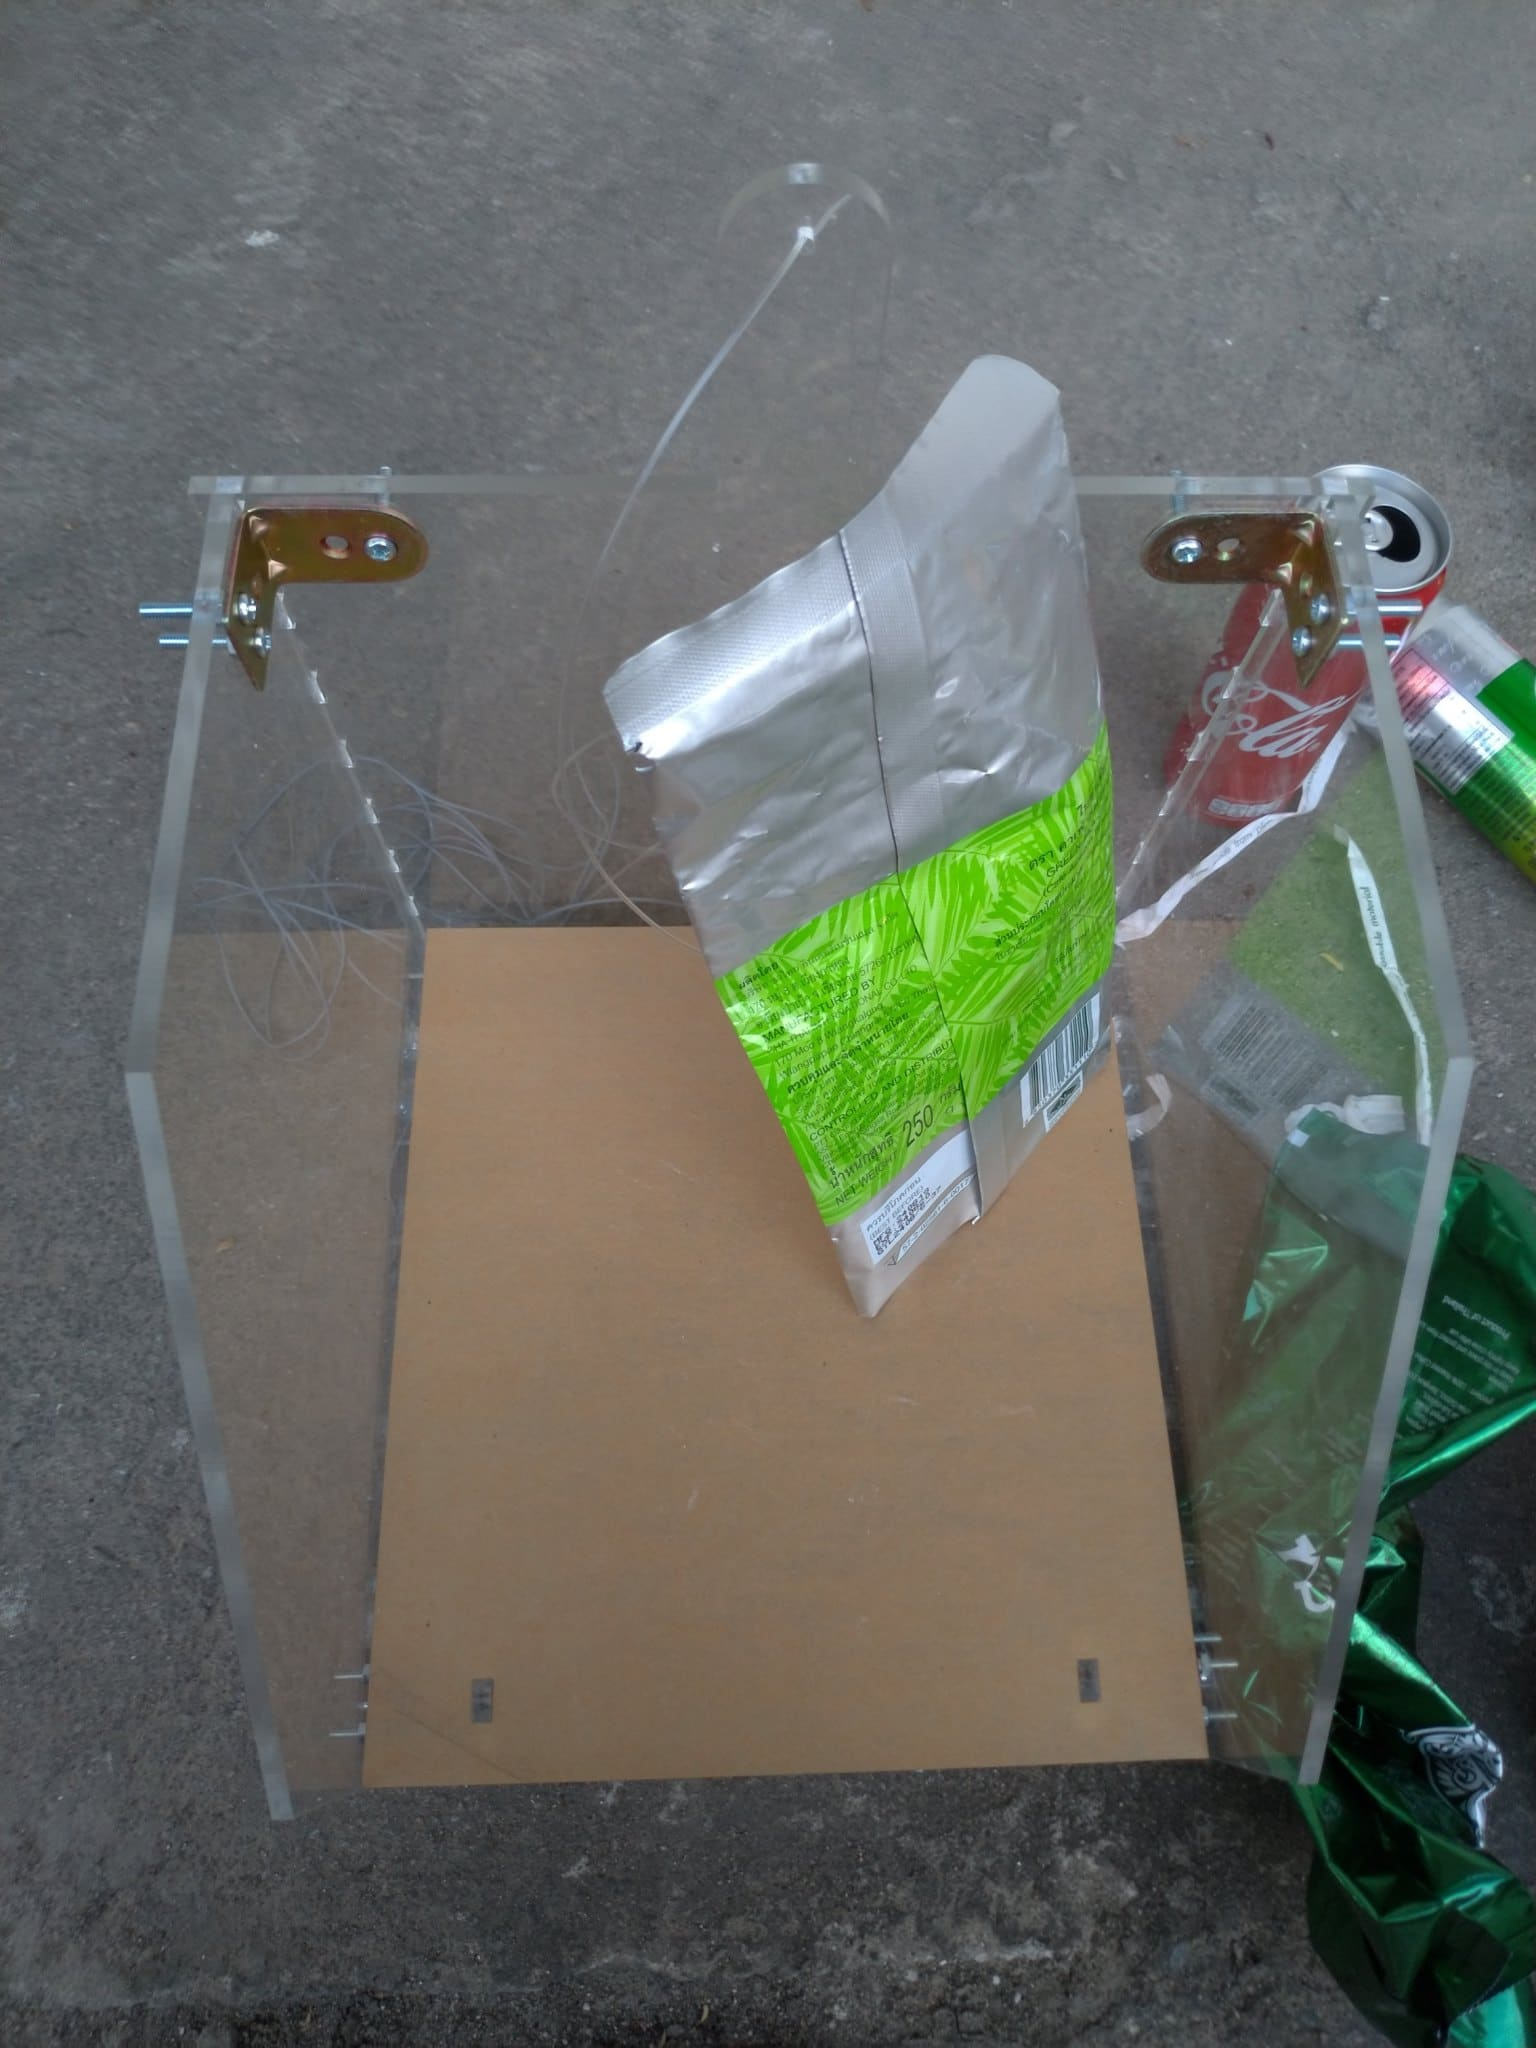AlCan: (1183, 445, 1454, 851), (1347, 576, 1536, 876)
Others: (610, 348, 1147, 1334), (1167, 1121, 1536, 2024)
